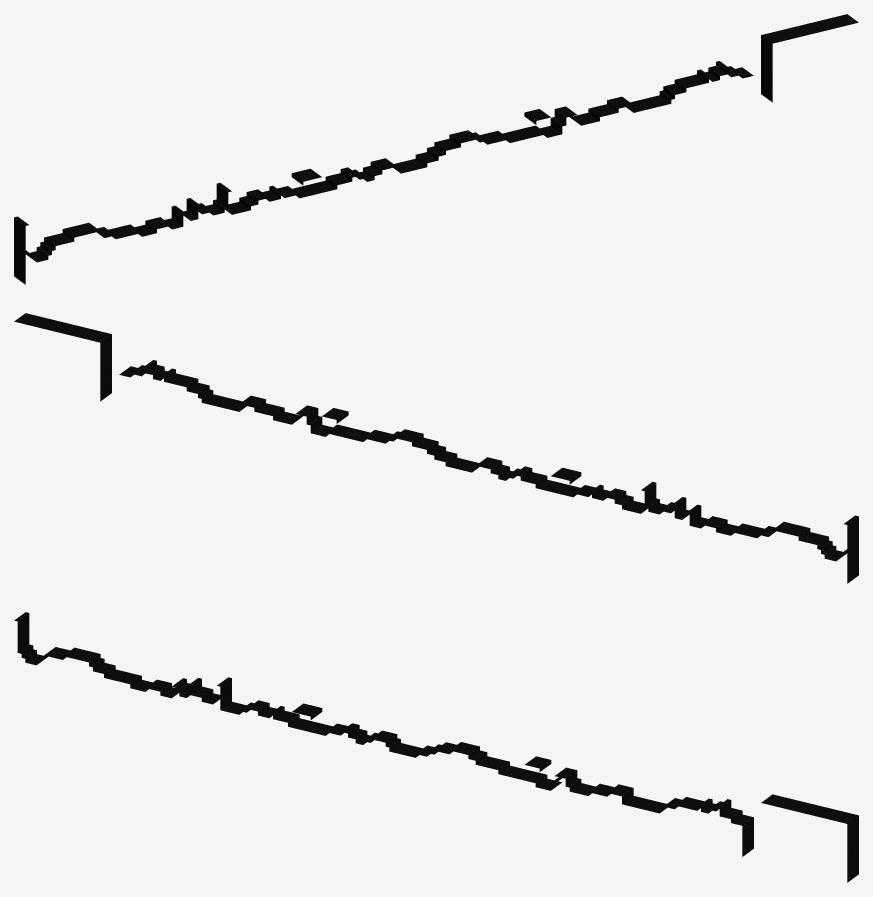
The model's file is Luna2Rachadura03.glb.
3 renders of one model, top to bottom at view 1: azimuth 30°, elevation 25°; view 2: azimuth 150°, elevation 25°; view 3: azimuth 330°, elevation 25°, orthographic.
Parts seen in each view (by area): view 1: Setor_1, Setor_4, Setor_6, Setor_2, Setor_5, Setor_3, Setor_0, Setor_-1; view 2: Setor_1, Setor_4, Setor_6, Setor_2, Setor_5, Setor_3, Setor_0, Setor_-1; view 3: Setor_6, Setor_0, Setor_4, Setor_2, Setor_1, Setor_5, Setor_3.
Part boxes in pixels (x1=…): Setor_1: x1=135, y1=183, x2=265, y2=235; Setor_4: x1=495, y1=98, x2=625, y2=142; Setor_6: x1=735, y1=14, x2=858, y2=102; Setor_2: x1=254, y1=161, x2=385, y2=201; Setor_5: x1=615, y1=61, x2=745, y2=112; Setor_3: x1=375, y1=130, x2=505, y2=173; Setor_0: x1=14, y1=216, x2=145, y2=262; Setor_-1: x1=14, y1=217, x2=25, y2=284; Setor_1: x1=607, y1=482, x2=737, y2=534; Setor_4: x1=247, y1=397, x2=377, y2=441; Setor_6: x1=14, y1=313, x2=137, y2=401; Setor_2: x1=487, y1=460, x2=618, y2=500; Setor_5: x1=127, y1=360, x2=257, y2=411; Setor_3: x1=367, y1=429, x2=497, y2=472; Setor_0: x1=727, y1=515, x2=858, y2=561; Setor_-1: x1=847, y1=516, x2=858, y2=583; Setor_6: x1=735, y1=794, x2=858, y2=882; Setor_0: x1=14, y1=612, x2=145, y2=688; Setor_4: x1=495, y1=756, x2=625, y2=796; Setor_2: x1=254, y1=702, x2=385, y2=744; Setor_1: x1=134, y1=677, x2=265, y2=714; Setor_5: x1=615, y1=786, x2=745, y2=823; Setor_3: x1=375, y1=731, x2=505, y2=769.
Size of the model in its own units: 231 by 15.6 by 5.6.
Materials: 1 (1 with a texture image).
